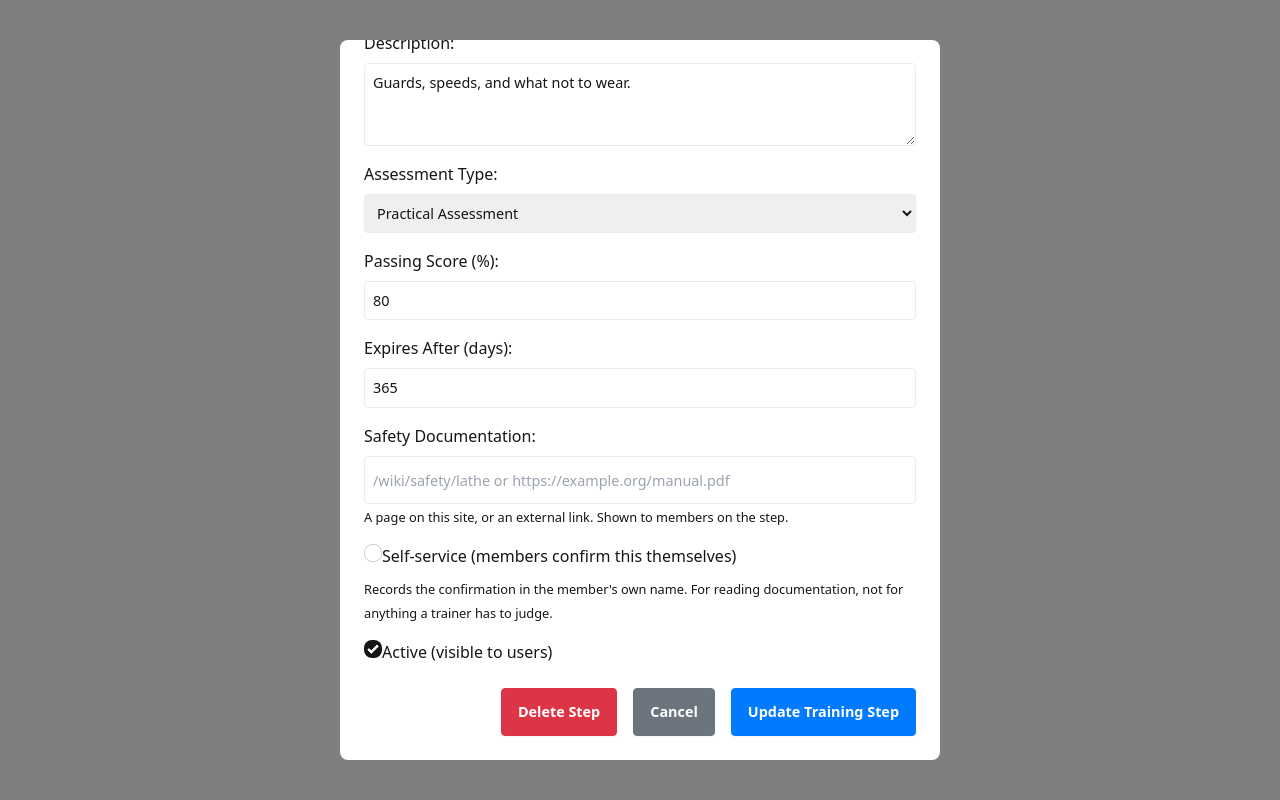
it: deleting › makes the submit button claim it is updating while a delete runs
This screenshot has width=1280, height=800.
(page scrolled)
Click the button "Delete Step". click: point(559, 712)
box: [501, 688, 617, 736]
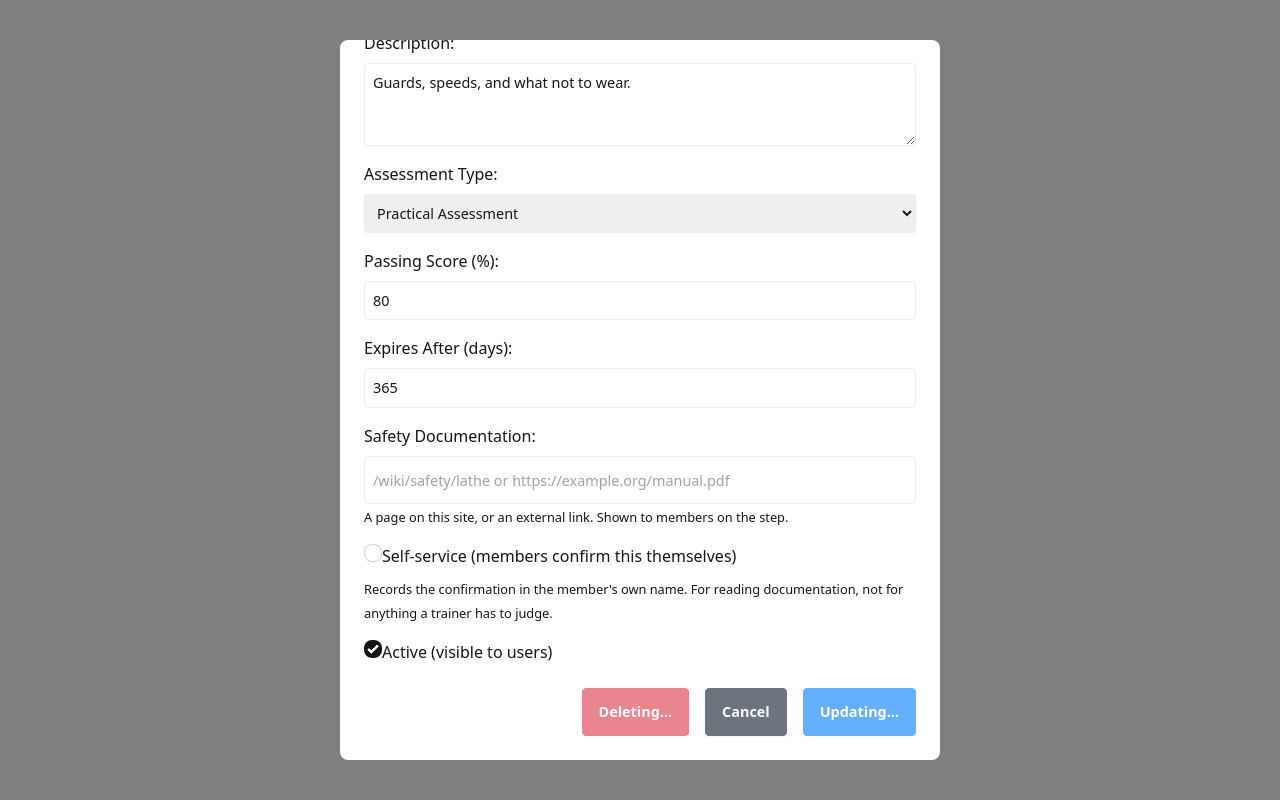
Check: the submit button reads "Updating...", box [803, 688, 916, 736]
Check: the button with class "btn-danger" reads "Deleting...", box [582, 688, 689, 736]
